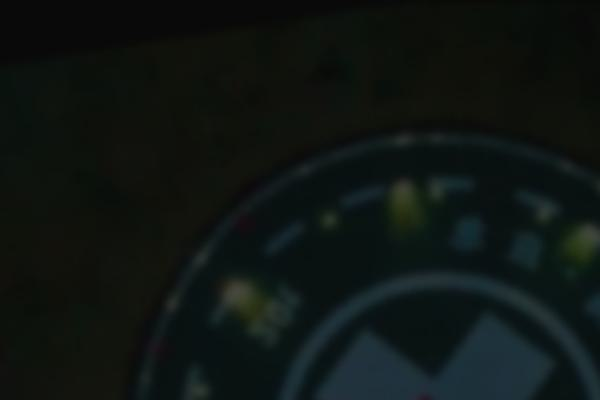Apron: (272, 264, 600, 400)
